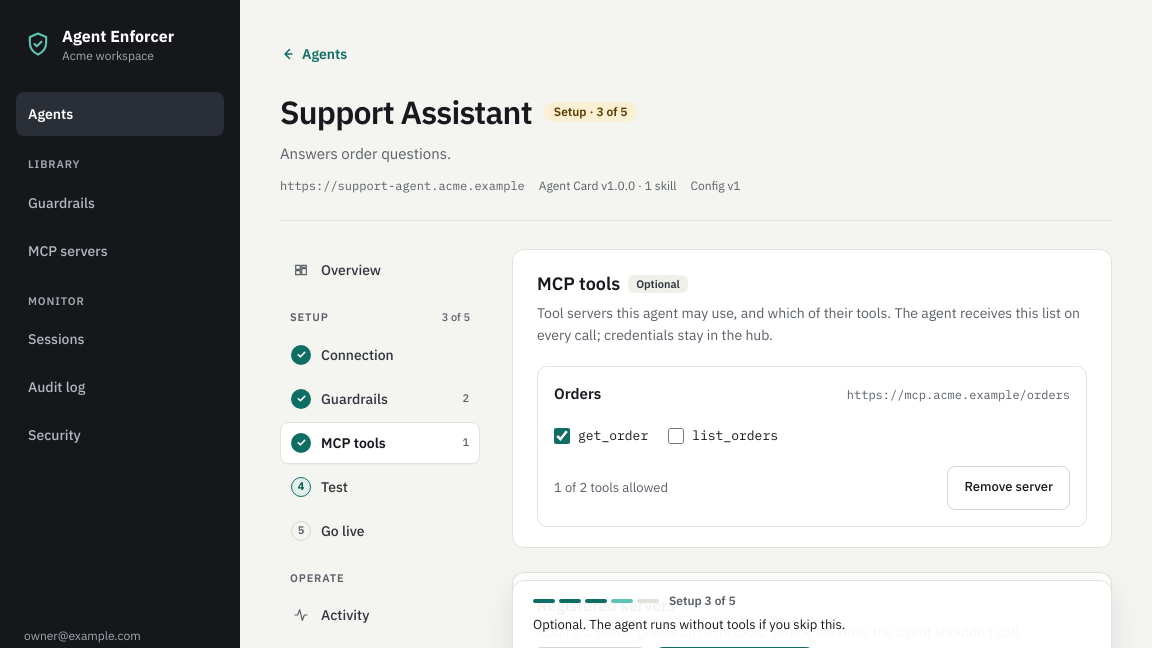
Test: Agent MCP tools step (FR-17) › removes a server from the agent
Click the button with aria-label "Remove Orders": (1009, 488) [948,466,1070,510]
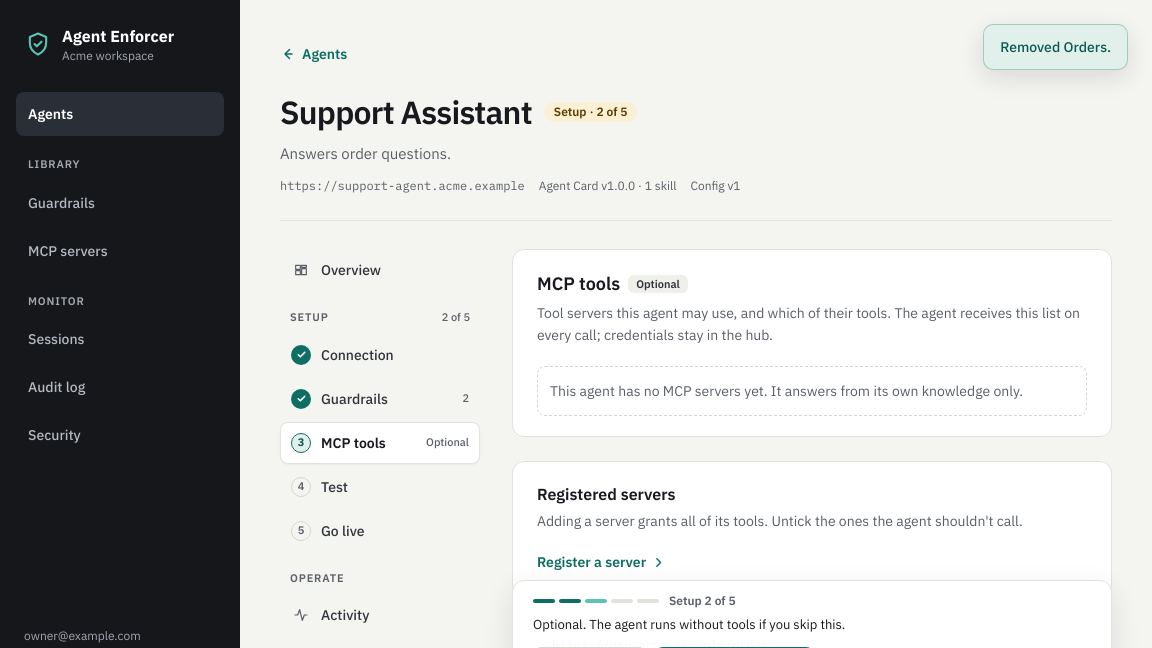
Expected: the text "This agent has no MCP servers yet." is shown, [550,382,1023,400]
